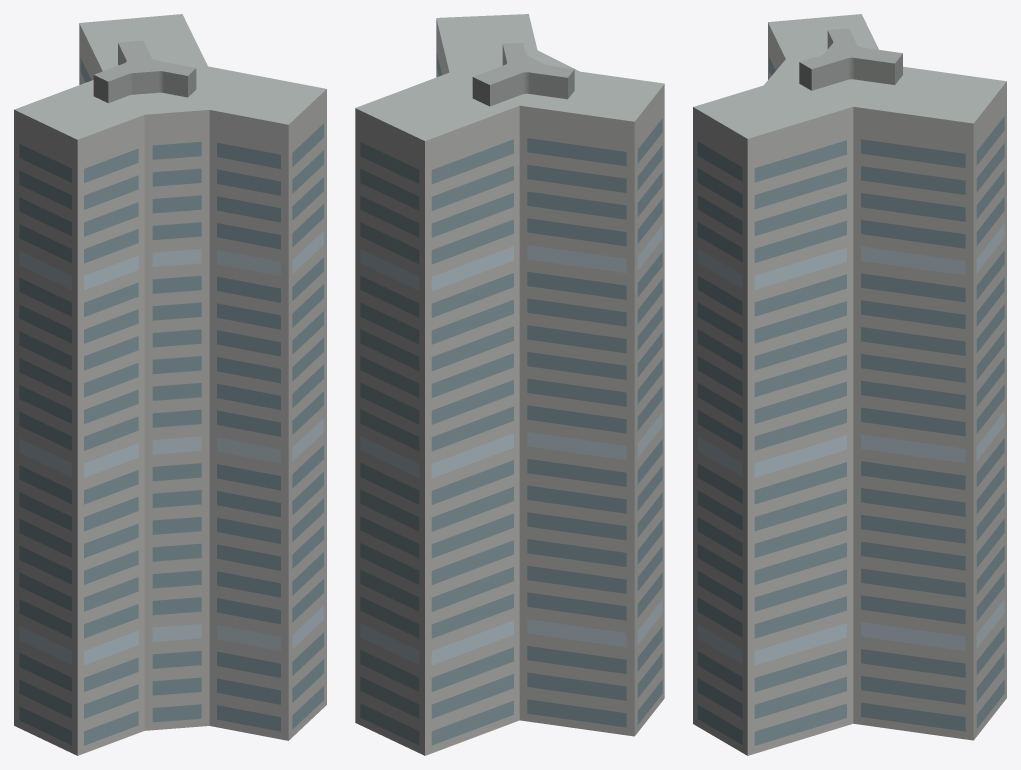
File: fallback-godeok-raemian-hillstate-117.glb
3 views of the same model, side by side, from view 1: azimuth 30°, elevation 25°; view 2: azimuth 150°, elevation 25°; view 3: azimuth 270°, elevation 25° (orthographic).
Visible parts, largest first — view 1: fallback-godeok-raemian-hillstate-117; view 2: fallback-godeok-raemian-hillstate-117; view 3: fallback-godeok-raemian-hillstate-117.
Boxes of the visible parts, bbox=[...] form: fallback-godeok-raemian-hillstate-117: bbox=[14, 14, 326, 755]; fallback-godeok-raemian-hillstate-117: bbox=[355, 14, 664, 755]; fallback-godeok-raemian-hillstate-117: bbox=[693, 14, 1006, 755].
Bounding box in the file's own units: 29.8 × 71 × 31.61.
